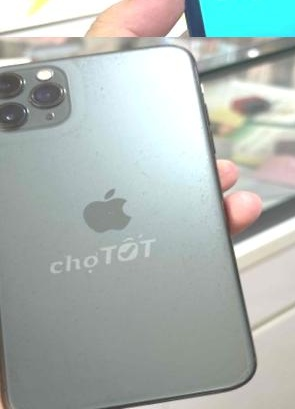scratch: (183, 124, 262, 384), (58, 44, 113, 147), (165, 185, 210, 309), (0, 115, 99, 157), (94, 37, 184, 72), (129, 145, 155, 197), (88, 302, 105, 318)
